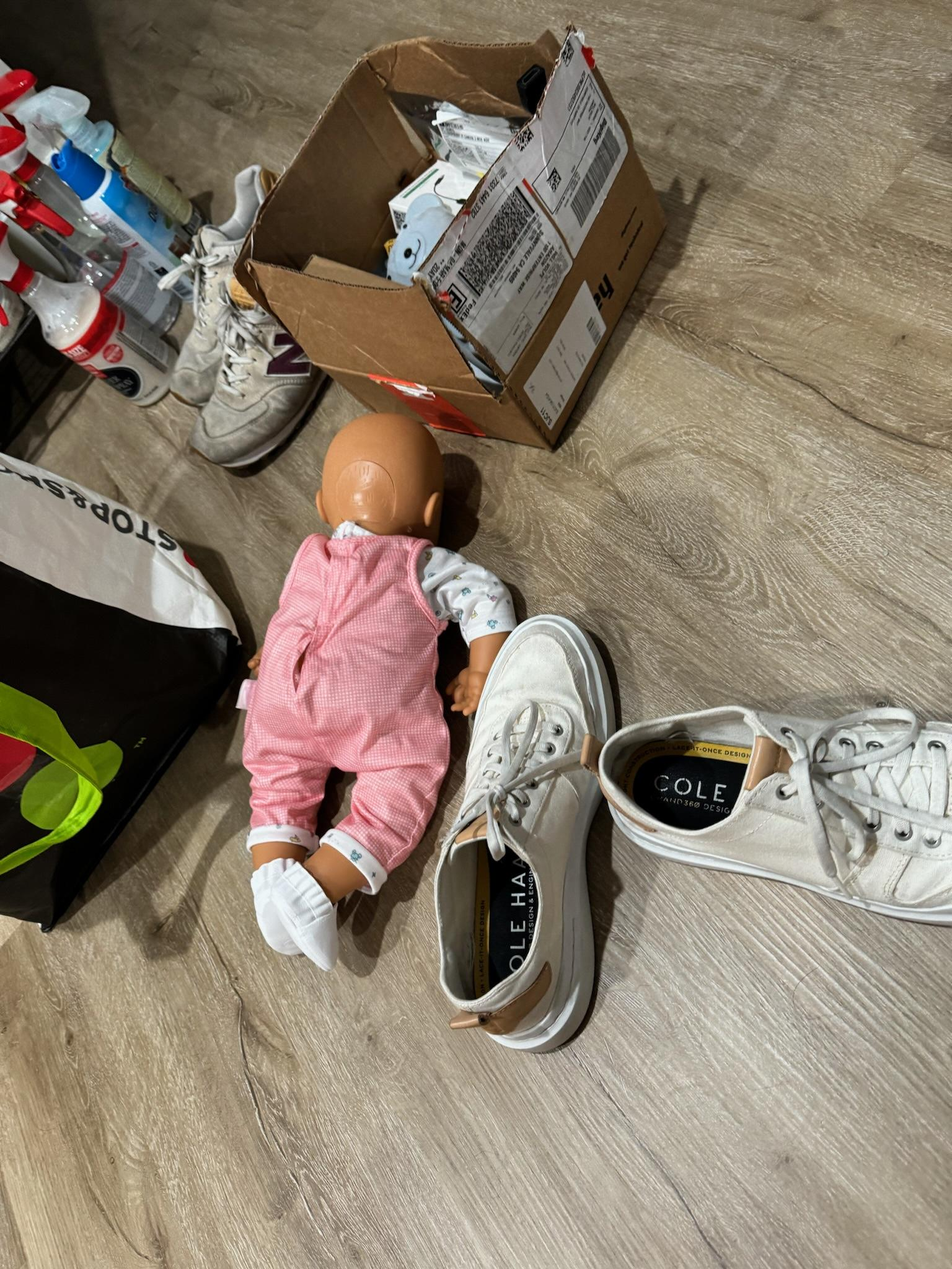baby: (219, 415, 498, 962)
